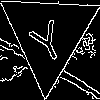Y: (23, 10, 69, 66)
